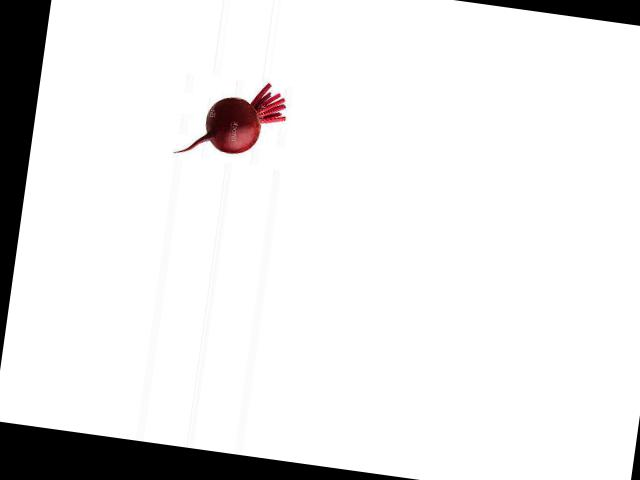beet: (175, 71, 290, 167)
